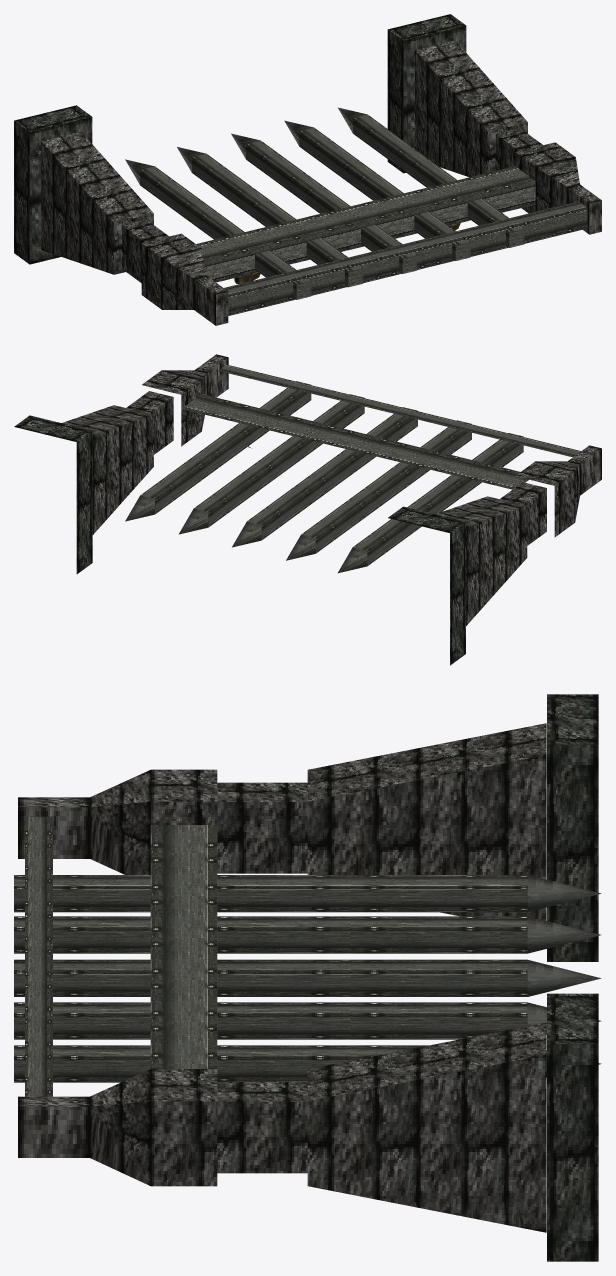
The model's file is StoneWall02.glb.
3 views of the same model, one above another, from view 1: azimuth 30°, elevation 25°; view 2: azimuth 150°, elevation 25°; view 3: azimuth 270°, elevation 25° (orthographic). The views are drawn at different scales.
Visible parts, largest first — view 1: model_StoneWall02; view 2: model_StoneWall02; view 3: model_StoneWall02.
Part boxes in pixels (<box>): model_StoneWall02: <box>14,14,601,325</box>; model_StoneWall02: <box>14,354,601,665</box>; model_StoneWall02: <box>14,694,601,1261</box>.
Bounding box in the file's own units: 5.95 × 1.73 × 4.23.
4 materials, 4 textured.
